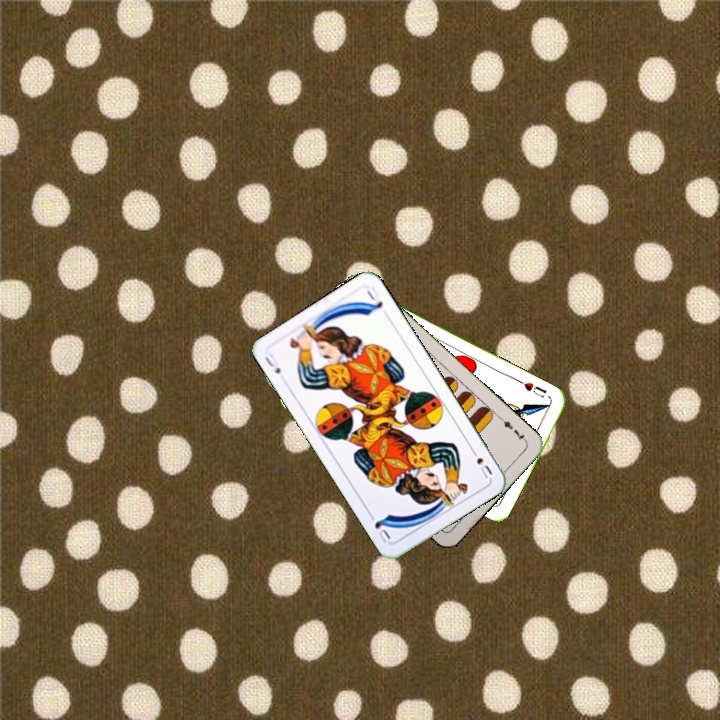E7: (496, 414, 529, 444)
HU: (520, 378, 549, 400)
SU: (467, 444, 495, 481), (261, 349, 283, 377)
